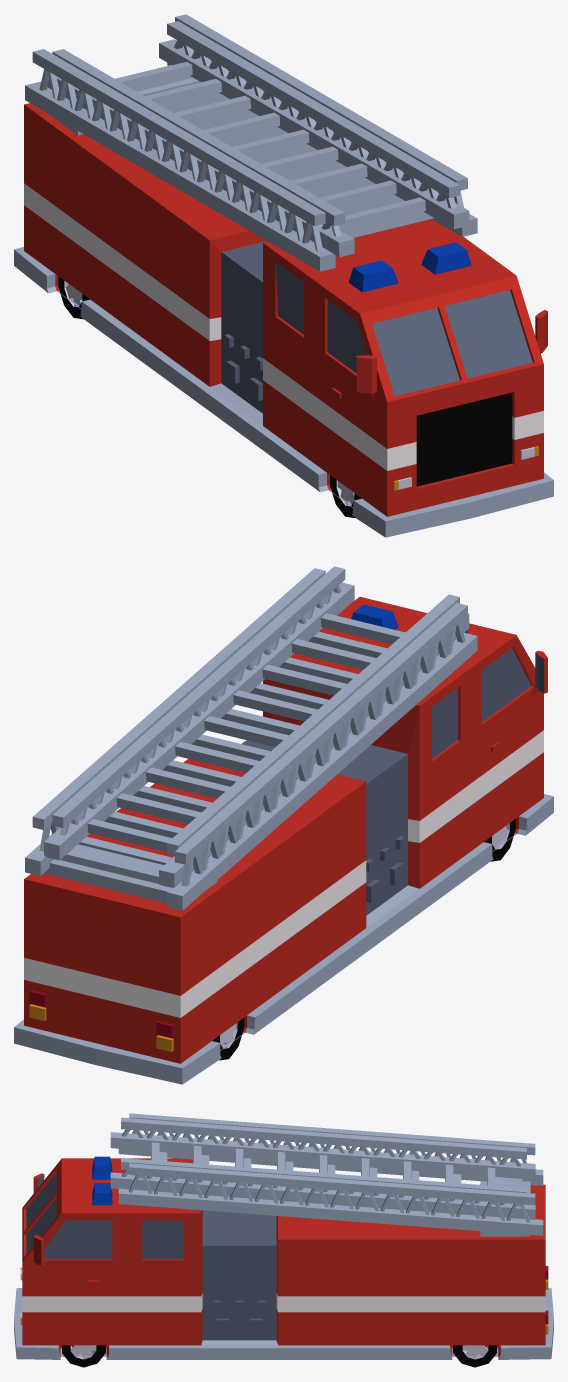
File: firetruck.glb
3 views of the same model, one above another, from view 1: azimuth 30°, elevation 25°; view 2: azimuth 150°, elevation 25°; view 3: azimuth 270°, elevation 25° (orthographic). The views are drawn at different scales.
Visible parts, largest first — view 1: firetruck; view 2: firetruck; view 3: firetruck.
Part boxes in pixels (<box>): firetruck: <box>14,14,553,537</box>; firetruck: <box>14,566,553,1084</box>; firetruck: <box>14,1113,553,1367</box>.
Bounding box in the file's own units: 2.5 × 3.48 × 8.5.
